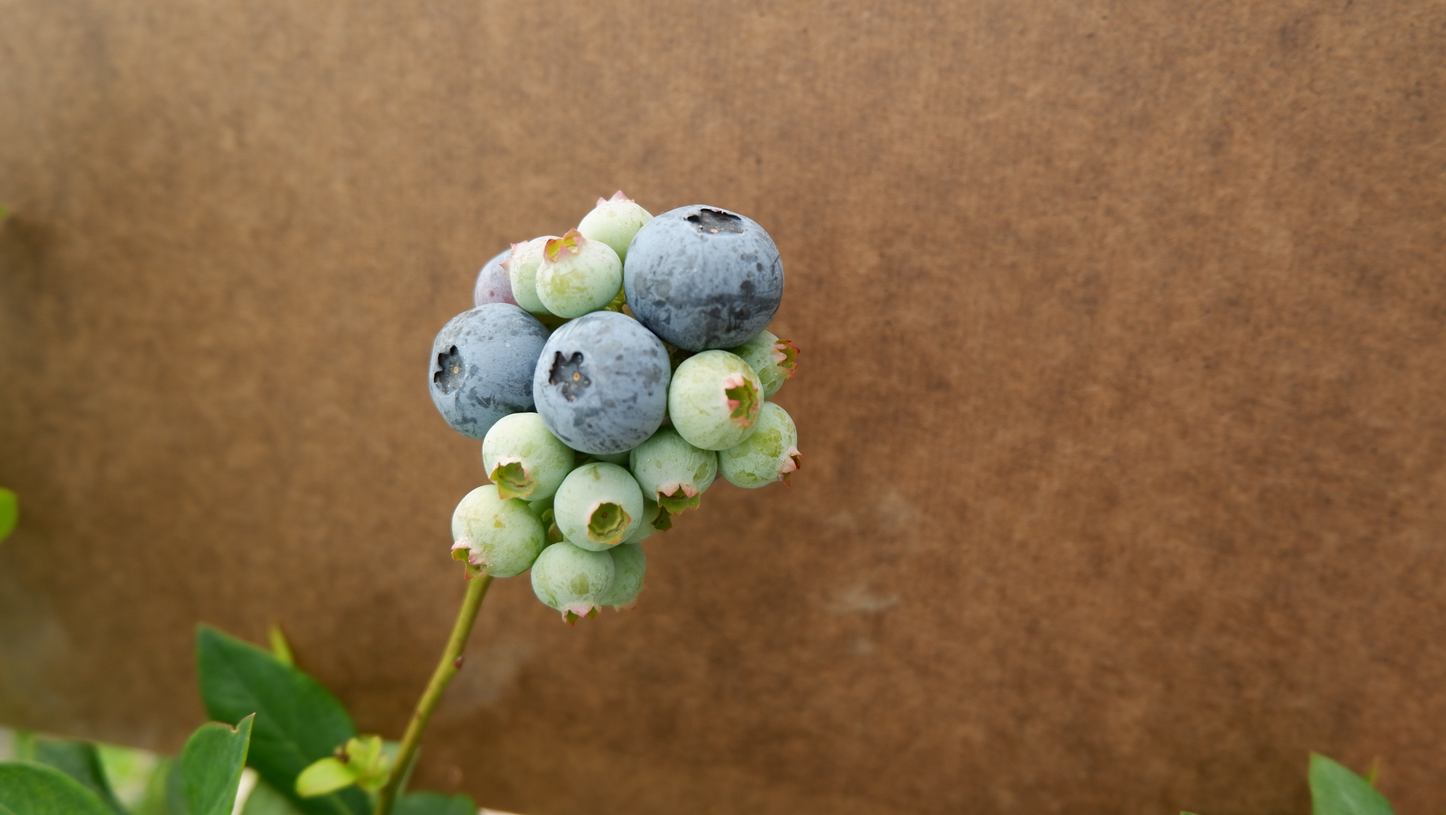Immature: (668, 349, 764, 450), (451, 484, 545, 579), (629, 422, 718, 518), (482, 412, 576, 502), (553, 461, 644, 551), (535, 227, 623, 319), (714, 401, 801, 489), (530, 540, 615, 626), (577, 189, 655, 278), (499, 236, 564, 315), (726, 330, 799, 399), (474, 248, 524, 311), (604, 543, 647, 614), (624, 498, 671, 543)
Mature: (623, 203, 784, 353), (531, 311, 671, 455), (428, 303, 552, 440)
